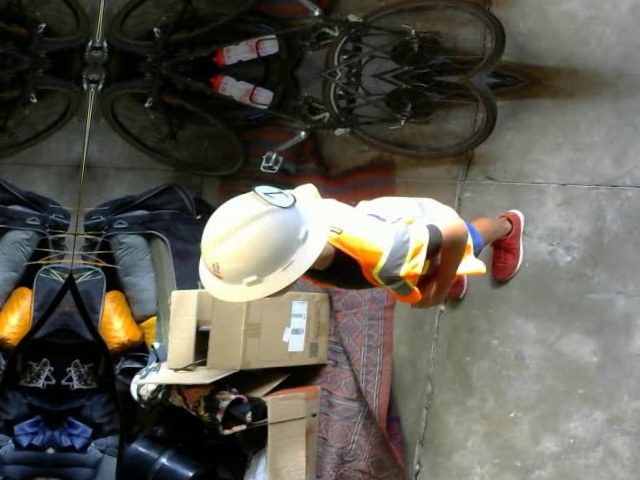one: (250, 183, 296, 208)
